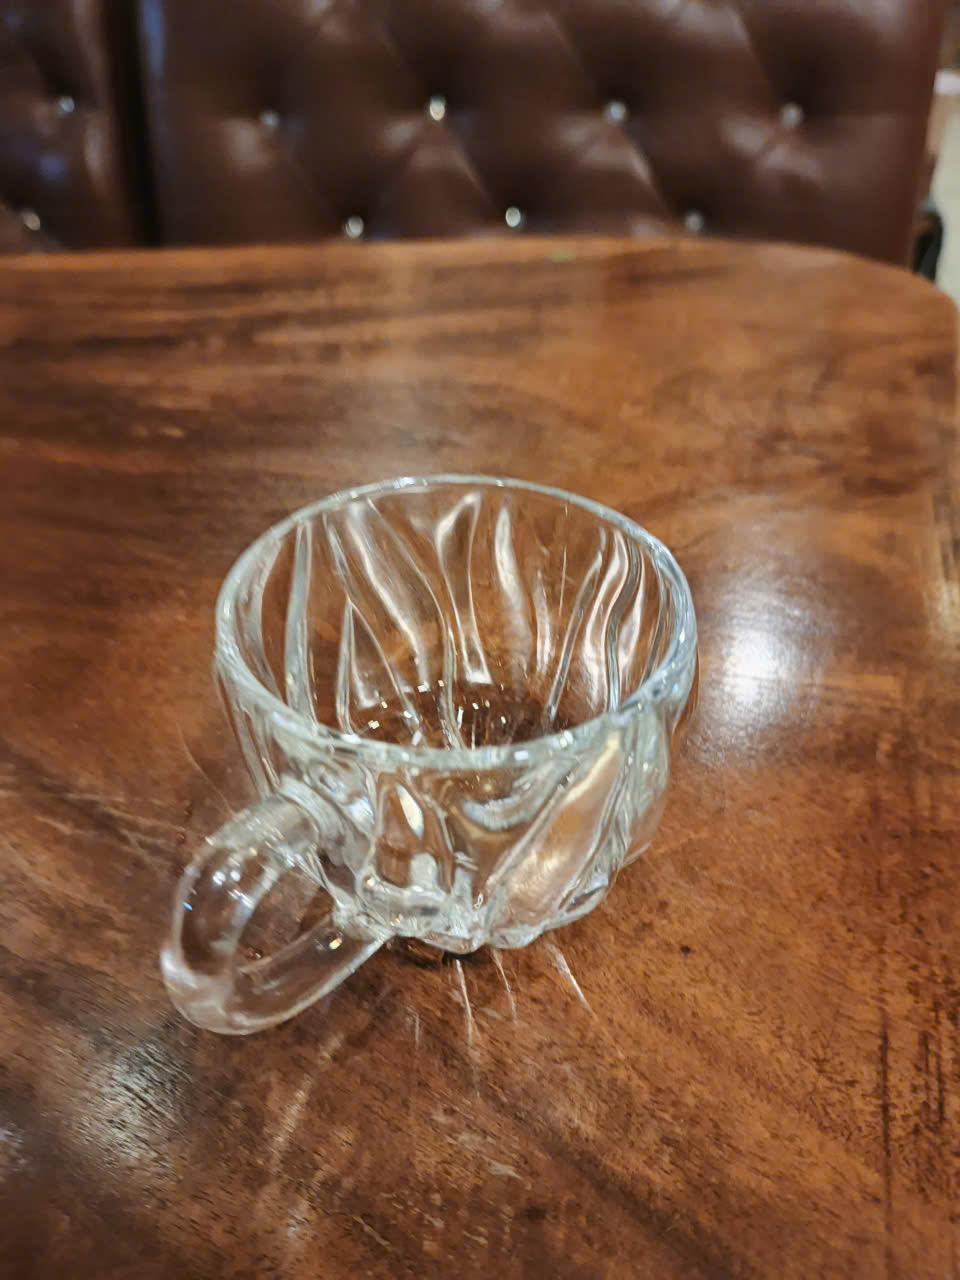Vo co: (160, 476, 700, 1039)
